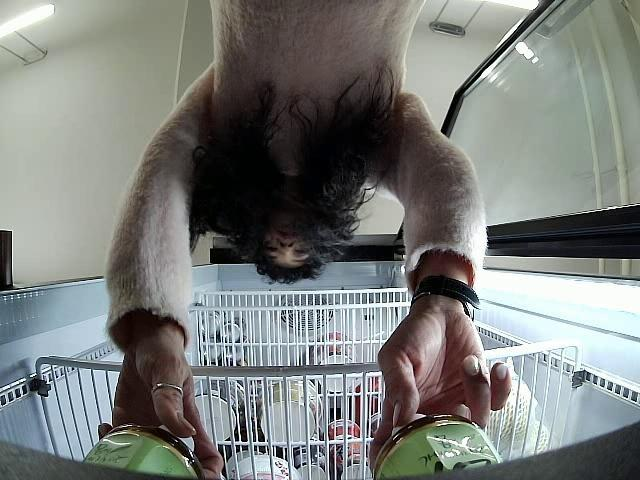19_17cha: (374, 412, 502, 480), (86, 422, 208, 480)
